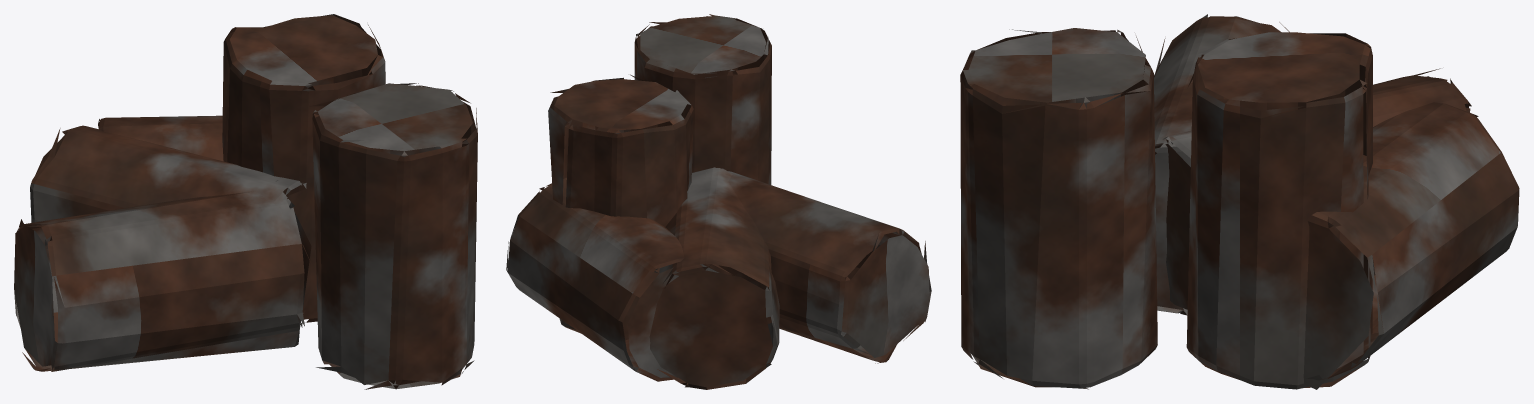
File: D08_rusty_cans_v2.glb
The picture shows the model from 3 angles, left to right: view 1: azimuth 30°, elevation 25°; view 2: azimuth 150°, elevation 25°; view 3: azimuth 270°, elevation 25°; orthographic projection. The views are drawn at different scales.
Visible parts, largest first — view 1: D08_rusty_cans_v2; view 2: D08_rusty_cans_v2; view 3: D08_rusty_cans_v2.
Boxes of the visible parts, bbox=[...] form: D08_rusty_cans_v2: bbox=[14, 14, 477, 389]; D08_rusty_cans_v2: bbox=[506, 14, 931, 389]; D08_rusty_cans_v2: bbox=[960, 14, 1519, 389].
Bounding box in the file's own units: 0.1939 × 0.1189 × 0.2.
1 material, 1 textured.
